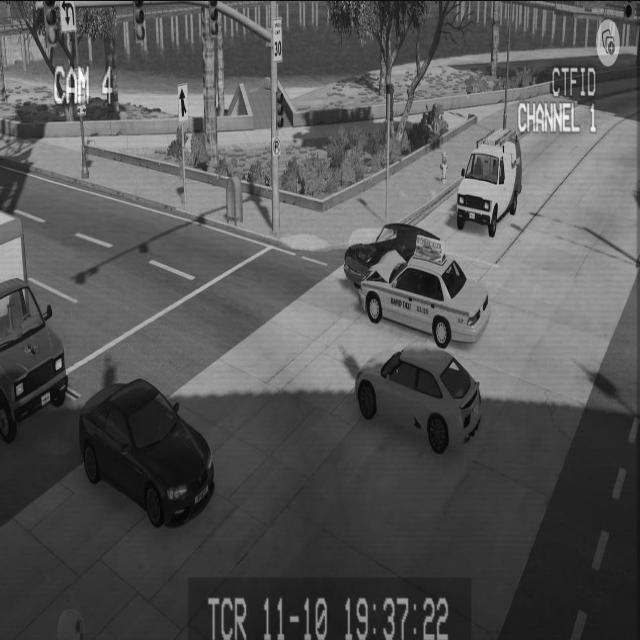accident: (341, 217, 494, 349)
vehicle: (80, 379, 216, 533), (0, 206, 70, 451), (353, 341, 486, 467), (455, 126, 523, 238)
